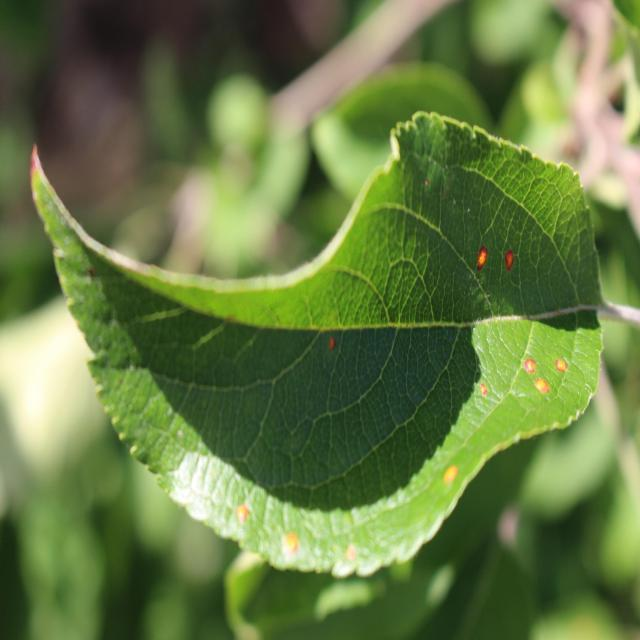Rust: (497, 235, 520, 288), (470, 235, 494, 280), (532, 369, 552, 410), (473, 367, 492, 405), (555, 340, 573, 380), (520, 348, 539, 379)
